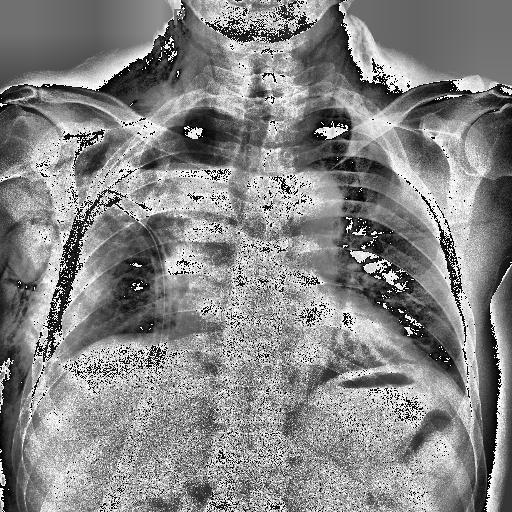0- Aortic enlargement: (272, 168, 346, 251), (276, 169, 342, 223)
3- Cardiomegaly: (173, 288, 426, 370), (178, 286, 412, 368)
4- Consolidation: (110, 164, 226, 280)
7- Lung Opacity: (108, 158, 229, 288), (126, 166, 235, 223)
9- Other lesion: (130, 26, 388, 104), (116, 104, 247, 226), (2, 238, 72, 428), (2, 244, 48, 490), (2, 258, 44, 396), (128, 22, 191, 108), (134, 22, 190, 82), (337, 14, 384, 82), (338, 20, 380, 88), (68, 142, 108, 172)
